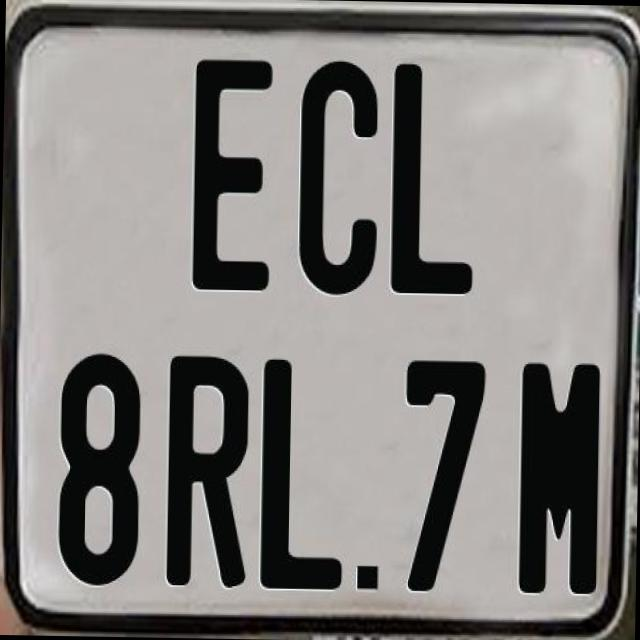7: (399, 360, 485, 596)
8: (56, 351, 148, 587)
C: (294, 59, 381, 299)
E: (188, 57, 272, 298)
L: (258, 358, 352, 596), (386, 64, 476, 296)
M: (518, 357, 602, 597)
R: (164, 356, 246, 589)
